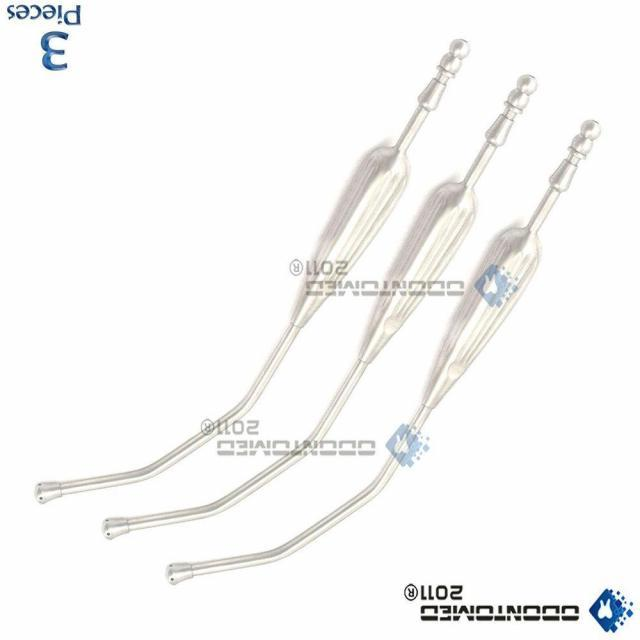Yankauer: (28, 37, 474, 506), (164, 115, 604, 590), (101, 70, 540, 546)
